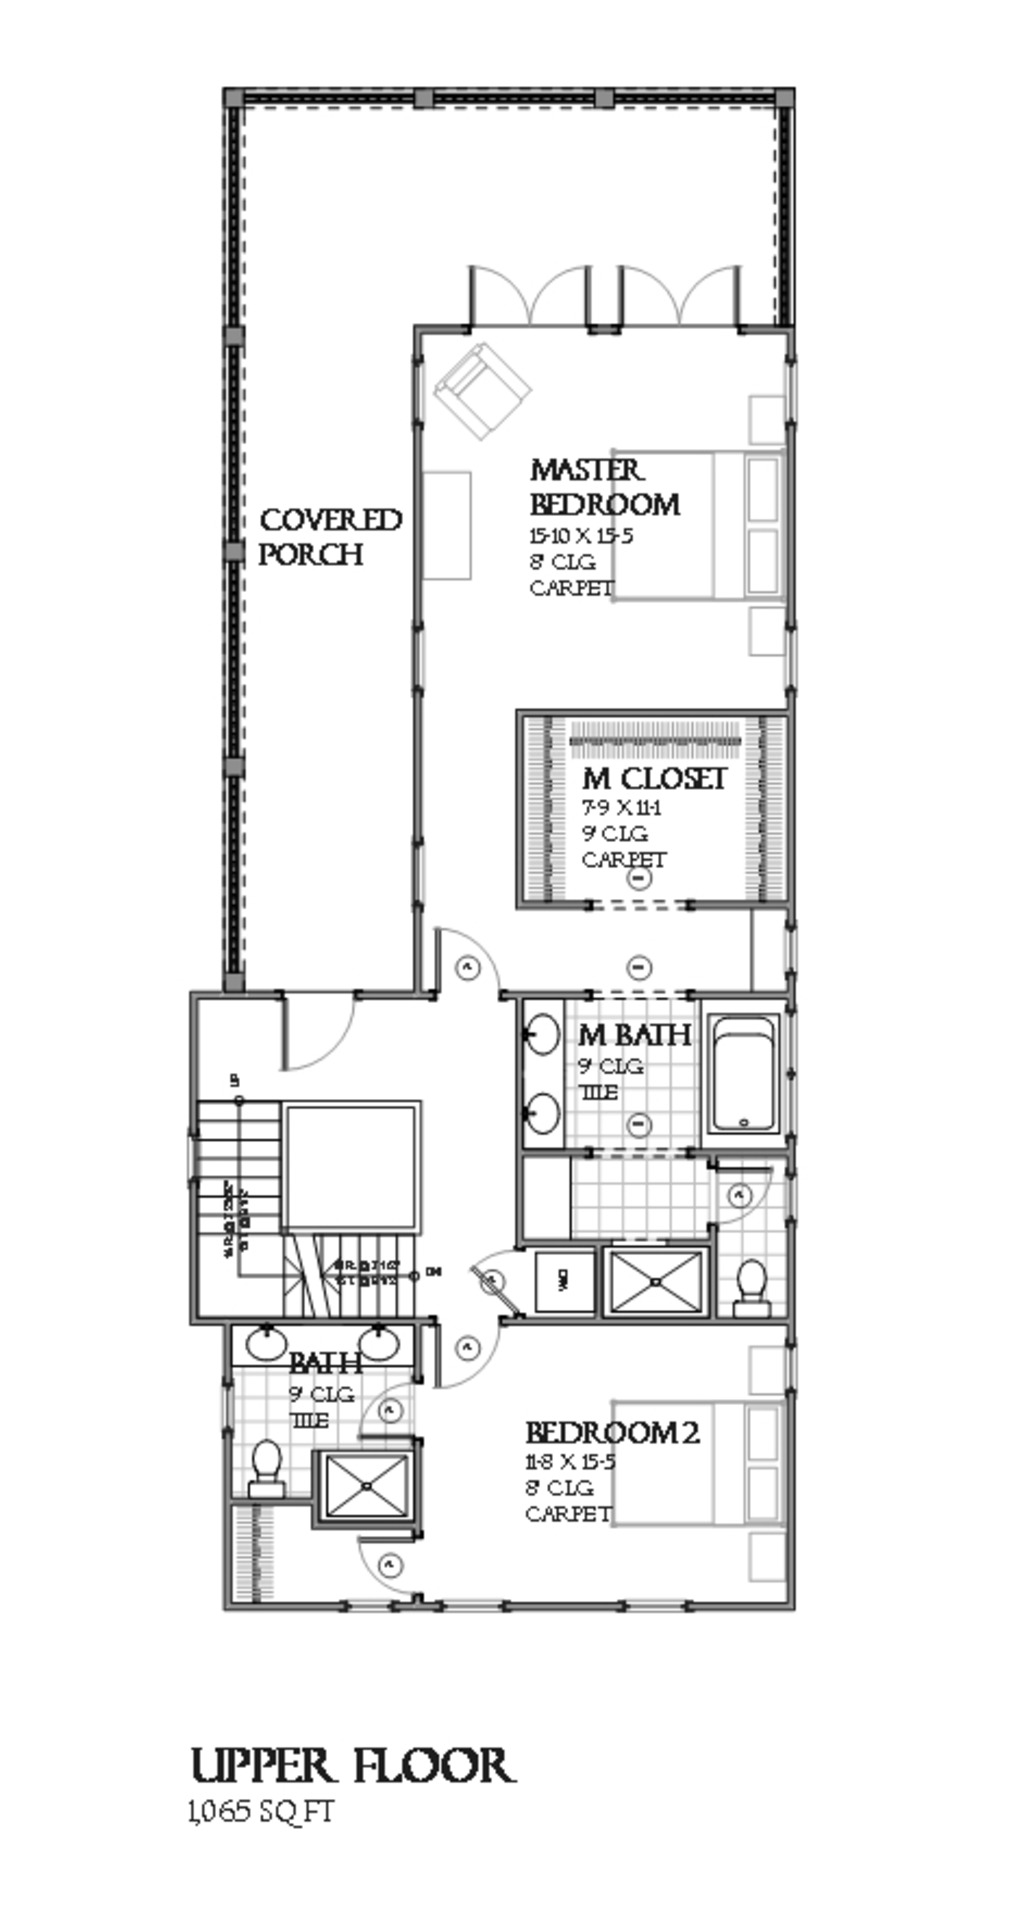bed: (613, 445, 780, 604), (609, 1396, 784, 1531)
door: (611, 255, 744, 333), (465, 258, 599, 327), (273, 994, 362, 1078), (427, 912, 505, 1002)
large_sink: (723, 1255, 782, 1327), (242, 1431, 290, 1500)
small_sink: (515, 995, 576, 1161), (229, 1318, 413, 1370)
small_sofa: (435, 343, 529, 443)
stairs: (197, 1092, 427, 1321)
tub: (702, 1001, 782, 1142)
